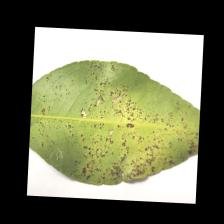canker: (55, 72, 161, 177)
